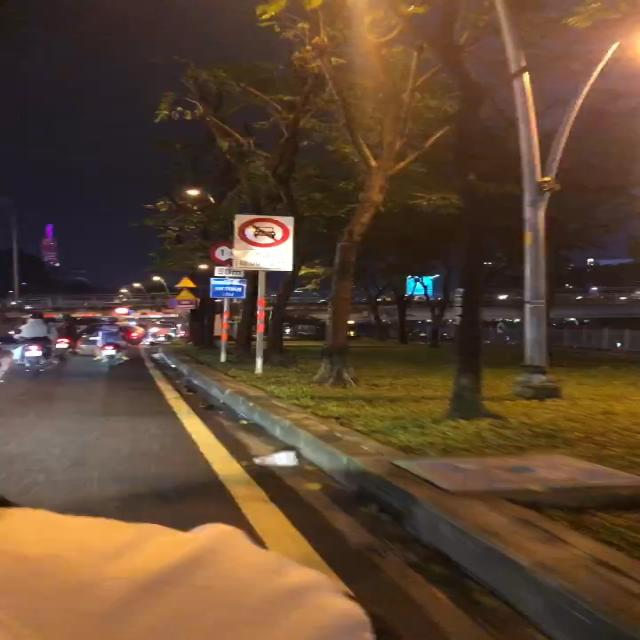Bien bao cam xe oto: (232, 213, 302, 251)
